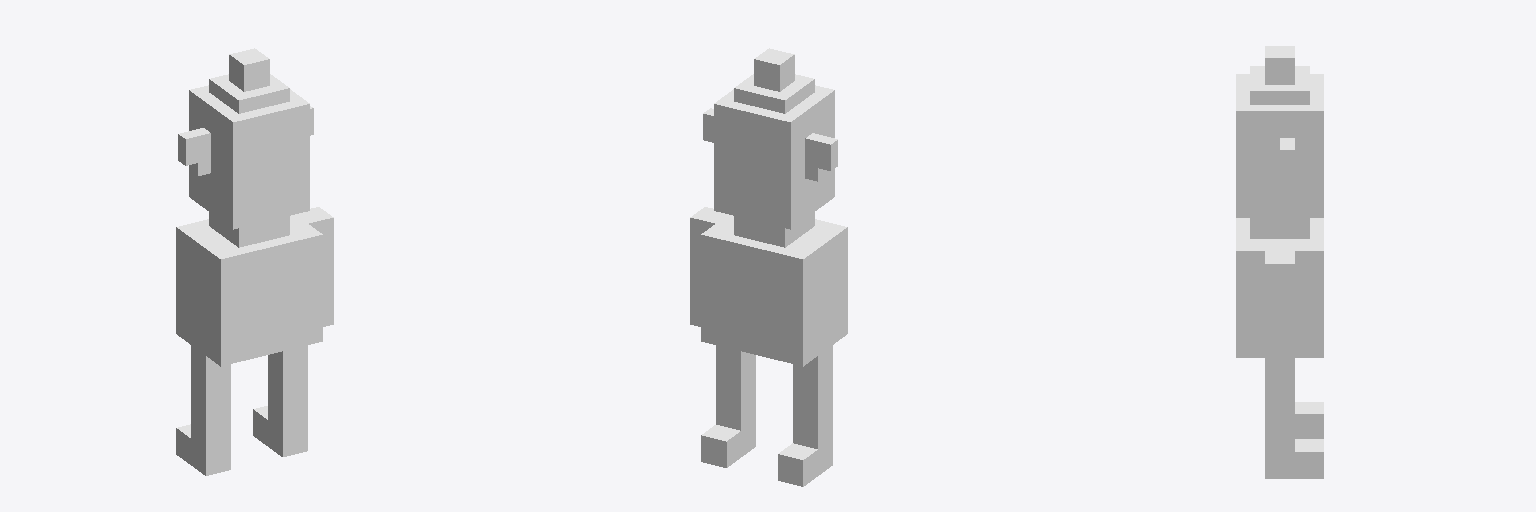
Rendered from elf_without_arm.obj.
3 views of the same model, side by side, from view 1: azimuth 30°, elevation 25°; view 2: azimuth 150°, elevation 25°; view 3: azimuth 270°, elevation 25° (orthographic).
Parts seen in each view (by area): view 1: object 1; view 2: object 1; view 3: object 1.
Boxes of the visible parts, <box> form: object 1: <box>176,48,333,475</box>; object 1: <box>690,48,847,486</box>; object 1: <box>1236,46,1323,478</box>.
Size of the model in its own units: 1.1 by 3 by 0.6.